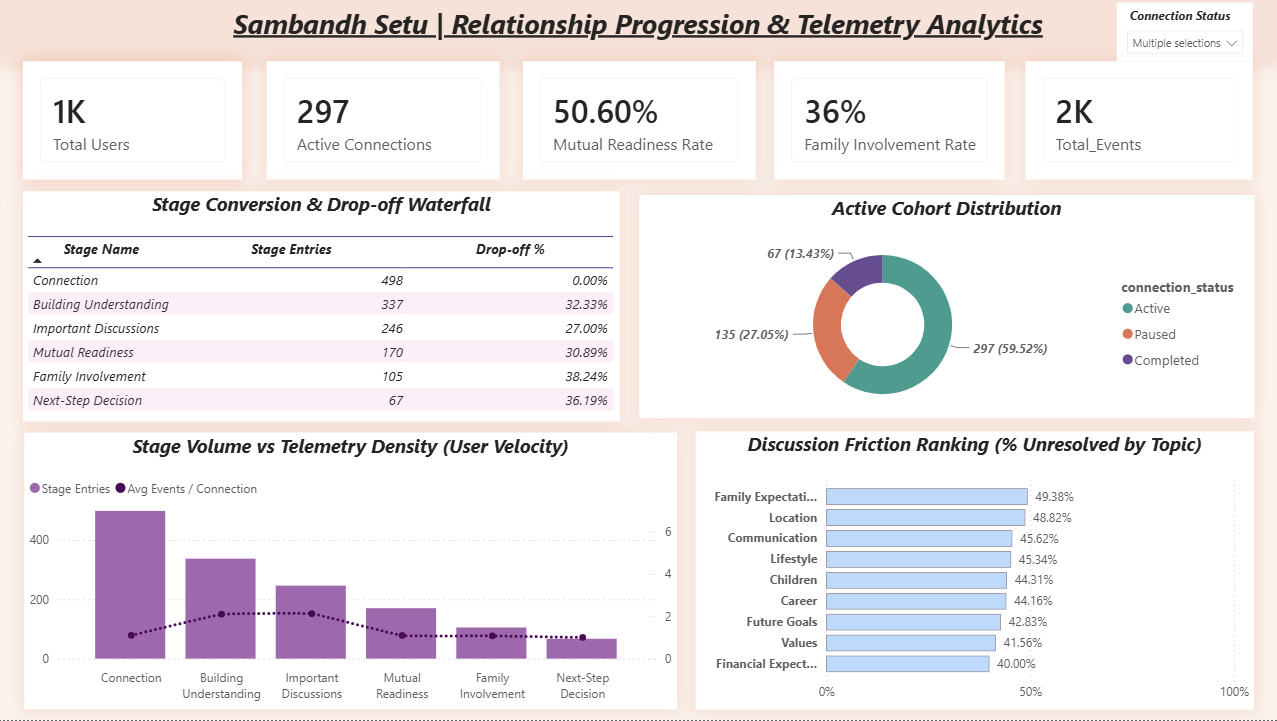

The page's visual inventory and layout, read from the dashboard file:
{"tool":"powerbi","page":{"name":"Page 1","canvas":[1280,720],"ordinal":0},"visuals":[{"type":"textbox","box":[0,0,1280,61.7],"z":0},{"type":"cardVisual","fields":{"Data":["_Measures.Total_Users"]},"box":[25,61.7,219,118.3],"z":1000},{"type":"cardVisual","fields":{"Data":["_Measures.Family_Involvement_Rate"]},"box":[776.3,61.7,230.1,118.3],"z":2000},{"type":"cardVisual","fields":{"Data":["_Measures.Total_Events"]},"box":[1027.5,61.7,227.5,118.3],"z":3000},{"type":"cardVisual","fields":{"Data":["_Measures.Active_Connections"]},"box":[268.4,61.7,232.9,118.3],"z":4000},{"type":"cardVisual","fields":{"Data":["_Measures.Mutual_Readiness_Rate"]},"box":[524.7,61.7,232.9,118.3],"z":5000},{"type":"pivotTable","title":"Stage Conversion & Drop-off Waterfall","fields":{"Rows":["Dim_JourneyStage.stage_name"],"Values":["_Measures.Stage_Entries","_Measures.Stage_DropOff_Rate"]},"box":[25,191.7,596.7,230],"z":6000},{"type":"clusteredBarChart","title":"Discussion Friction Ranking (% Unresolved by Topic)","fields":{"Category":["Dim_DiscussionTopic.topic_name"],"Y":["_Measures.Topic_Friction_Rate"]},"box":[697.1,431.4,558.6,278.6],"z":7000},{"type":"lineClusteredColumnComboChart","title":"Stage Volume vs Telemetry Density (User Velocity)","fields":{"Category":["Dim_JourneyStage.stage_name"],"Y":["_Measures.Stage_Entries"],"Y2":["_Measures.Avg_Events_Per_Connection"]},"box":[25.7,432.9,652.9,277.1],"z":8000},{"type":"donutChart","title":"Active Cohort Distribution","fields":{"Category":["Dim_Connection.connection_status"],"Y":["Count(Dim_Connection.connection_id)"]},"box":[641.7,195,615,223.3],"z":9000},{"type":"slicer","fields":{"Values":["Dim_Connection.connection_status"]},"box":[1119,2,136,58],"z":10000}]}

Visuals, with their boxes in screenshot pixels (x1, y1, x2, y2), scaled from the page's 1280x720 canvas onto the 1277x721 screenshot:
textbox: bbox(0, 0, 1276, 62)
cardVisual - _Measures.Total_Users: bbox(25, 62, 243, 180)
cardVisual - _Measures.Family_Involvement_Rate: bbox(774, 62, 1004, 180)
cardVisual - _Measures.Total_Events: bbox(1025, 62, 1252, 180)
cardVisual - _Measures.Active_Connections: bbox(268, 62, 500, 180)
cardVisual - _Measures.Mutual_Readiness_Rate: bbox(523, 62, 756, 180)
"Stage Conversion & Drop-off Waterfall" pivotTable: bbox(25, 192, 620, 422)
"Discussion Friction Ranking (% Unresolved by Topic)" clusteredBarChart: bbox(695, 432, 1253, 711)
"Stage Volume vs Telemetry Density (User Velocity)" lineClusteredColumnComboChart: bbox(26, 434, 677, 711)
"Active Cohort Distribution" donutChart: bbox(640, 195, 1254, 419)
slicer - Dim_Connection.connection_status: bbox(1116, 2, 1252, 60)
